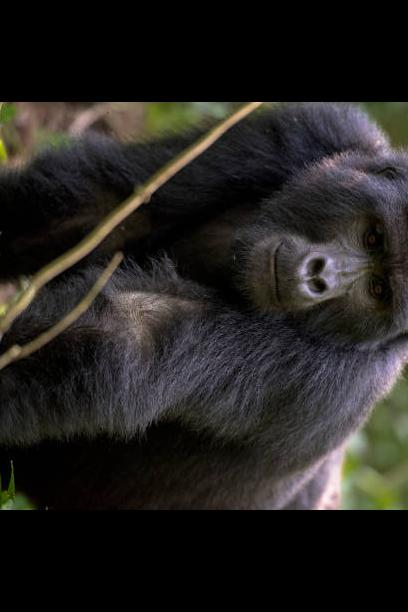goriile_montagne: (0, 108, 408, 502)
